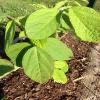Soyabean leaf: (22, 46, 56, 84), (25, 8, 64, 41), (68, 5, 99, 44)
